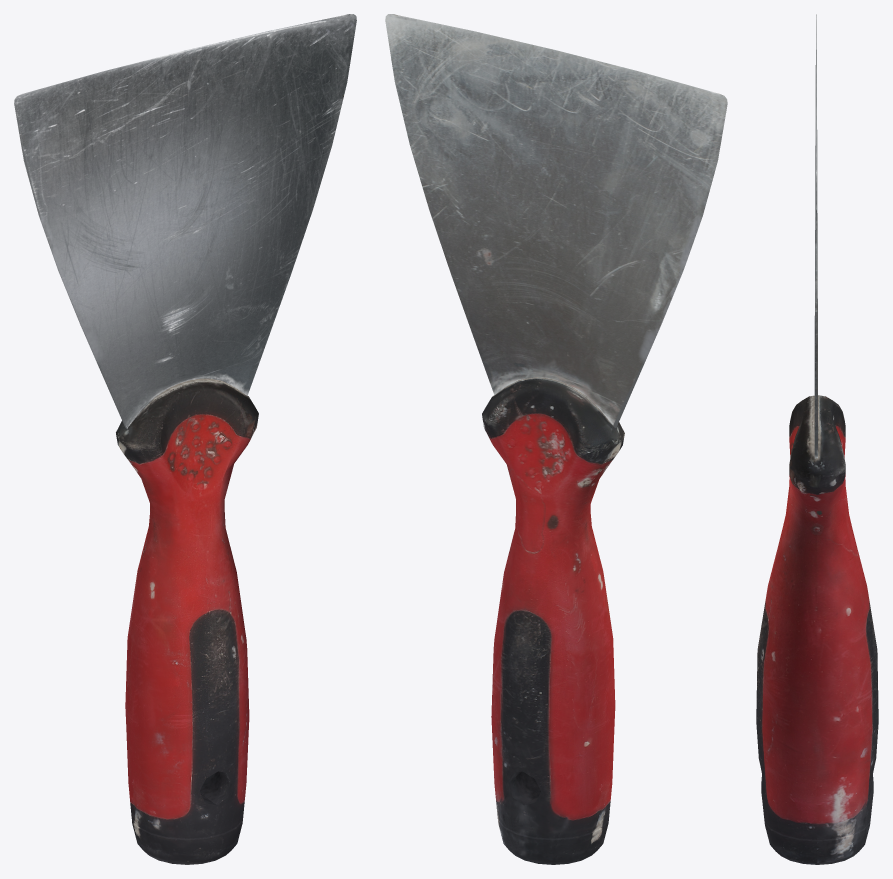
File: shovel_2.glb
3 views of the same model, side by side, from view 1: azimuth 30°, elevation 25°; view 2: azimuth 150°, elevation 25°; view 3: azimuth 270°, elevation 25° (orthographic). The views are drawn at different scales.
Parts seen in each view (by area): view 1: c23d1553c62e4cf69ffee18830bcecb5; view 2: c23d1553c62e4cf69ffee18830bcecb5; view 3: c23d1553c62e4cf69ffee18830bcecb5.
Part boxes in pixels (x1,y1,x2,y2): c23d1553c62e4cf69ffee18830bcecb5: (14, 14, 356, 864); c23d1553c62e4cf69ffee18830bcecb5: (385, 14, 727, 864); c23d1553c62e4cf69ffee18830bcecb5: (756, 14, 878, 864).
Bounding box in the file's own units: 0.4428 × 1 × 0.1438.
2 materials, 2 textured.
